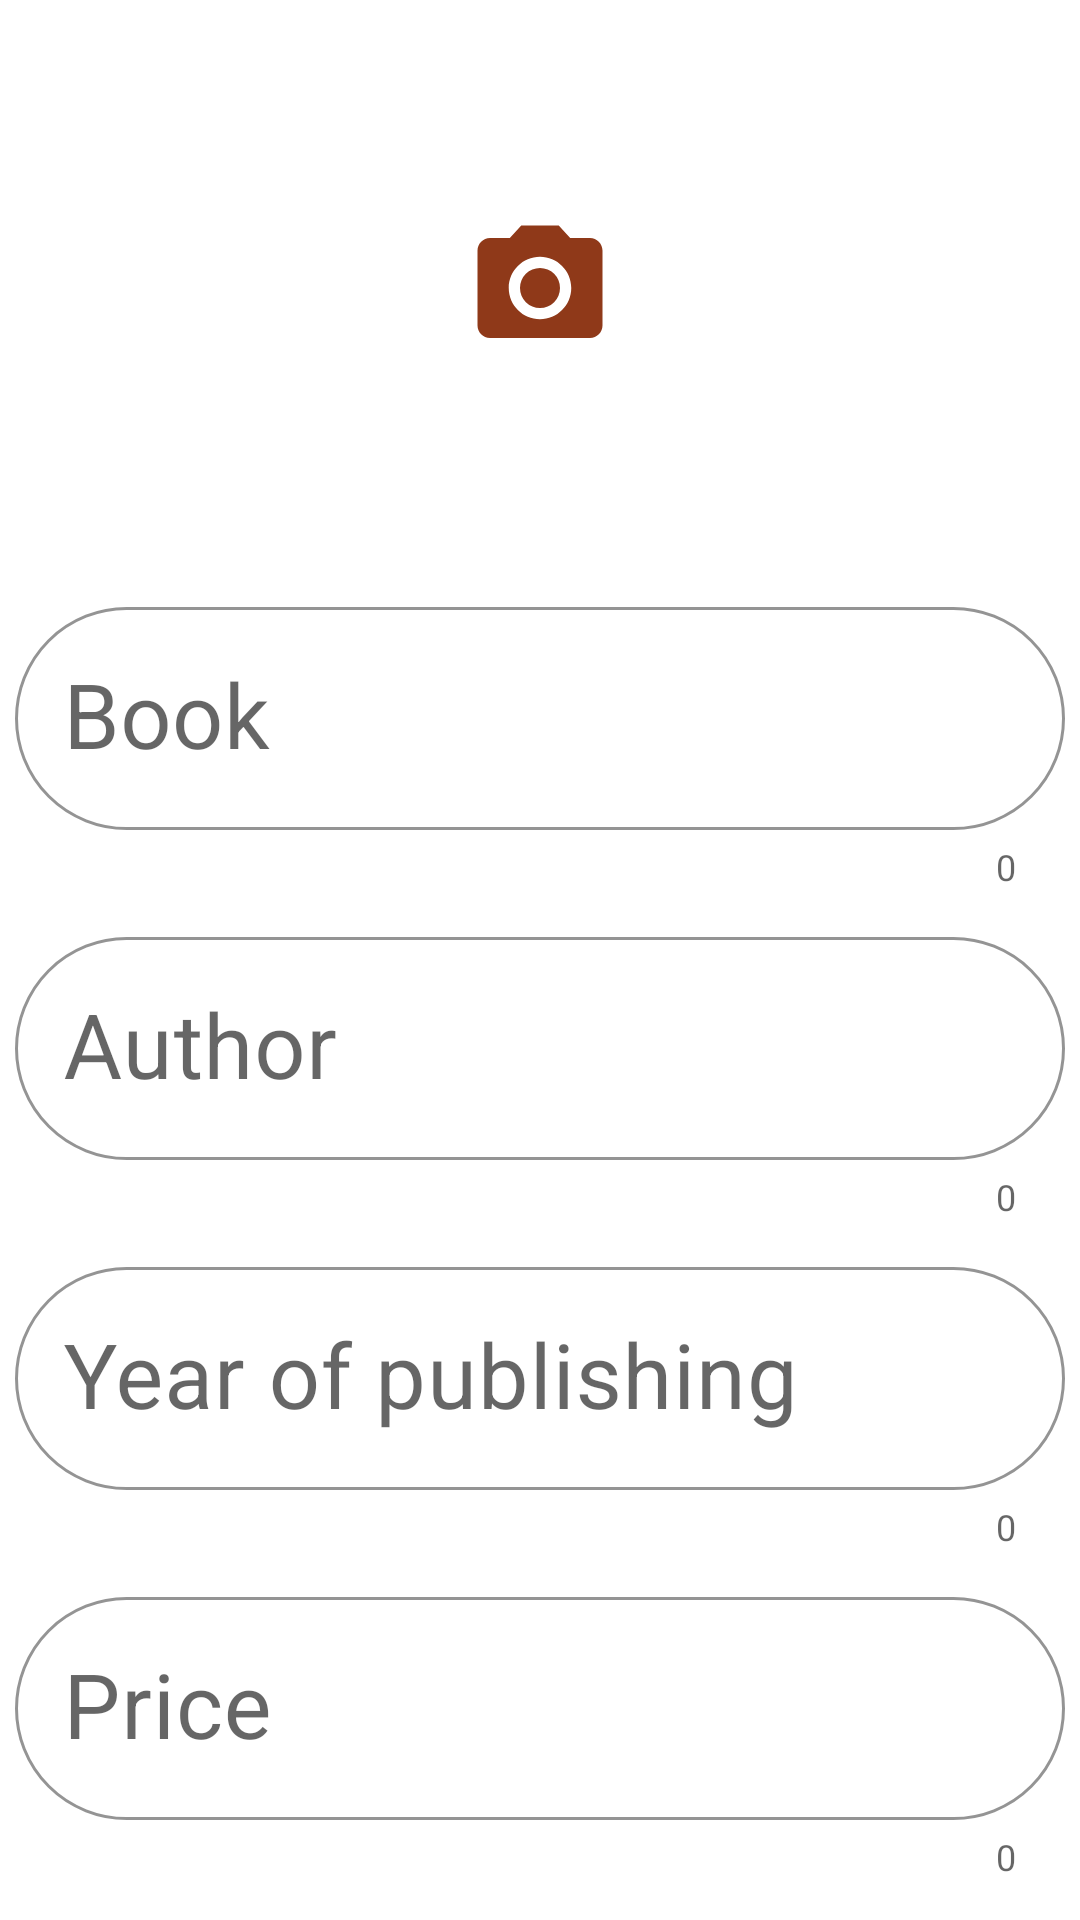

Locate icon controls on the screen. Image size 1080 x 1920, boxes as (x1, y1, x2, y2).
camera: (477, 225, 603, 338)
